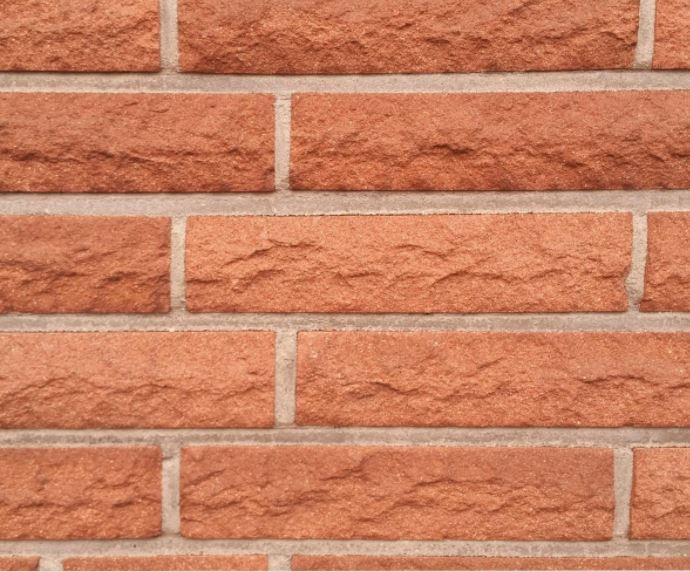brick: (184, 210, 635, 316), (175, 442, 620, 545), (287, 89, 690, 195), (292, 325, 690, 432), (174, 1, 643, 77), (1, 328, 279, 436), (1, 88, 278, 196), (1, 211, 176, 314), (1, 440, 167, 542), (3, 1, 166, 75)
